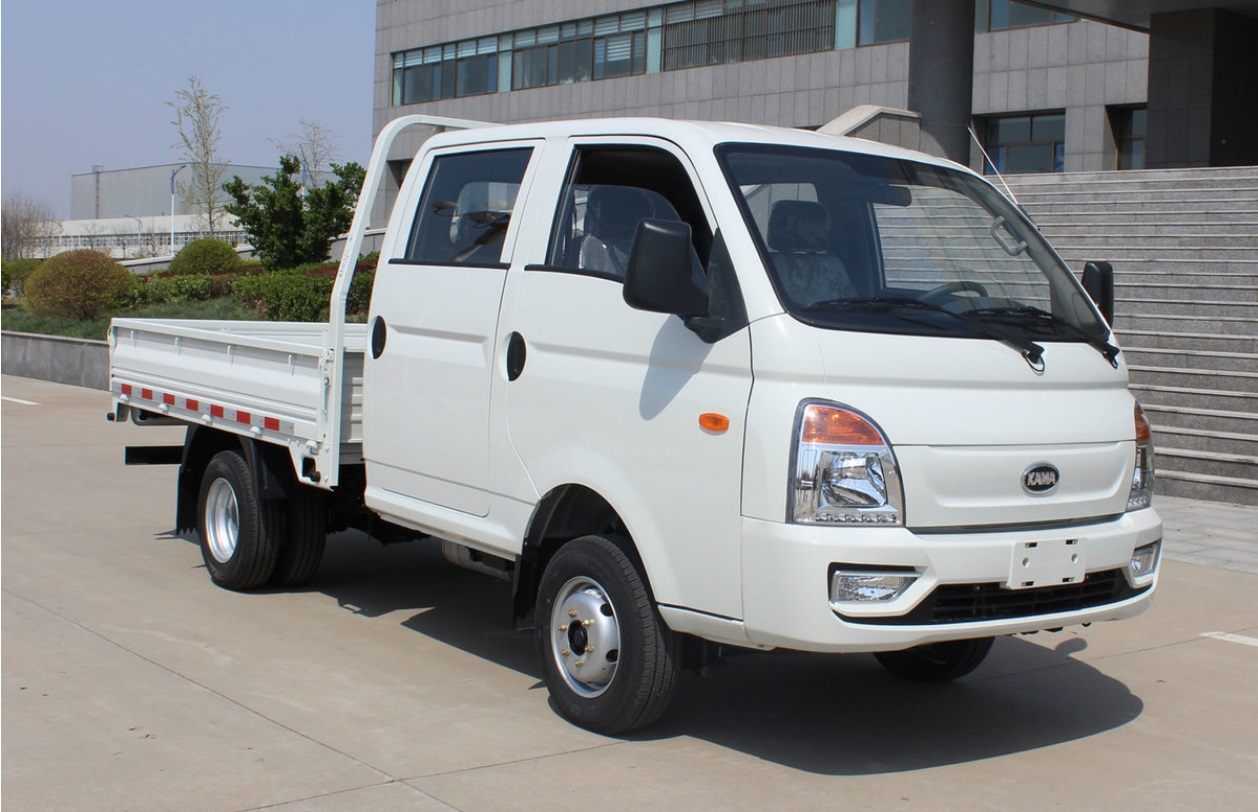truck: (106, 110, 1173, 740)
